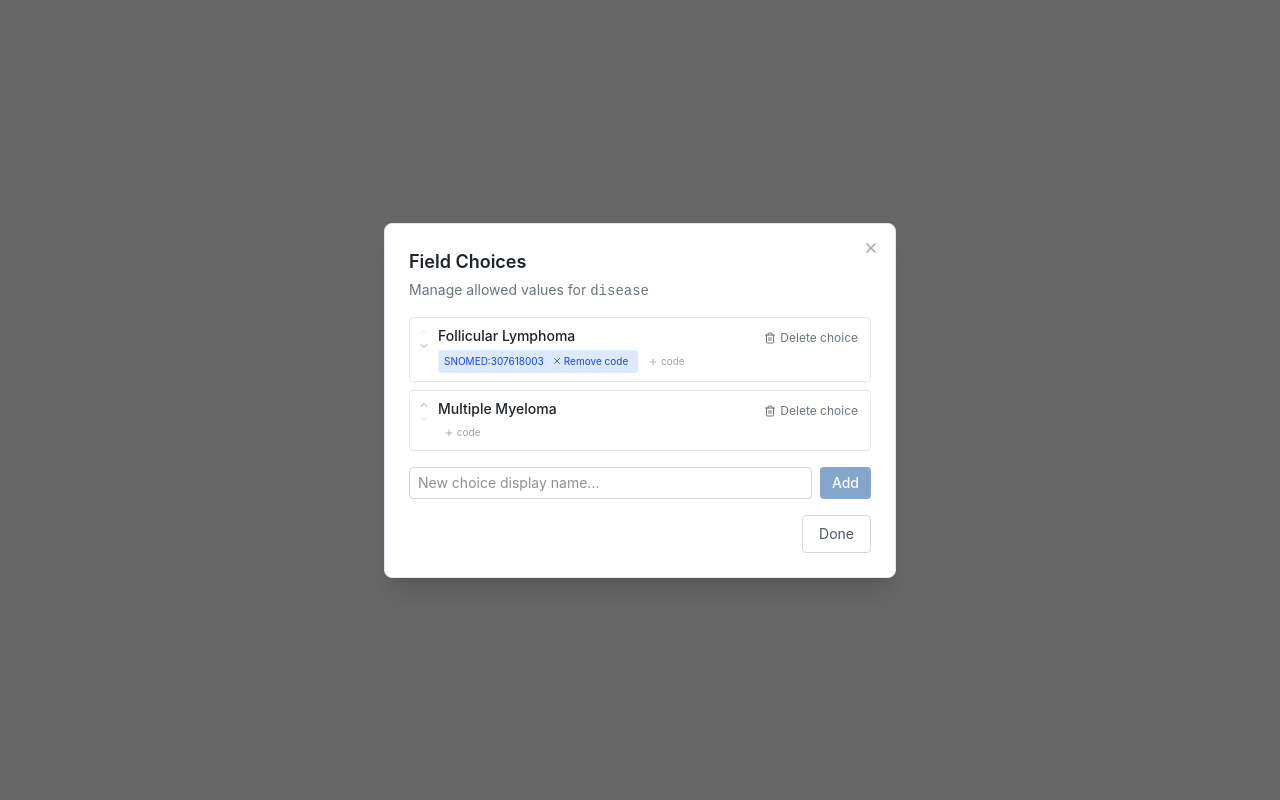
Test: FieldChoiceEditor › prevents duplicate code removals while the request is pending
Click the button with aria-label "Remove code SNOMED:307618003 from Follicular Lymphoma". click: click(590, 361)
box: [548,352,632,370]
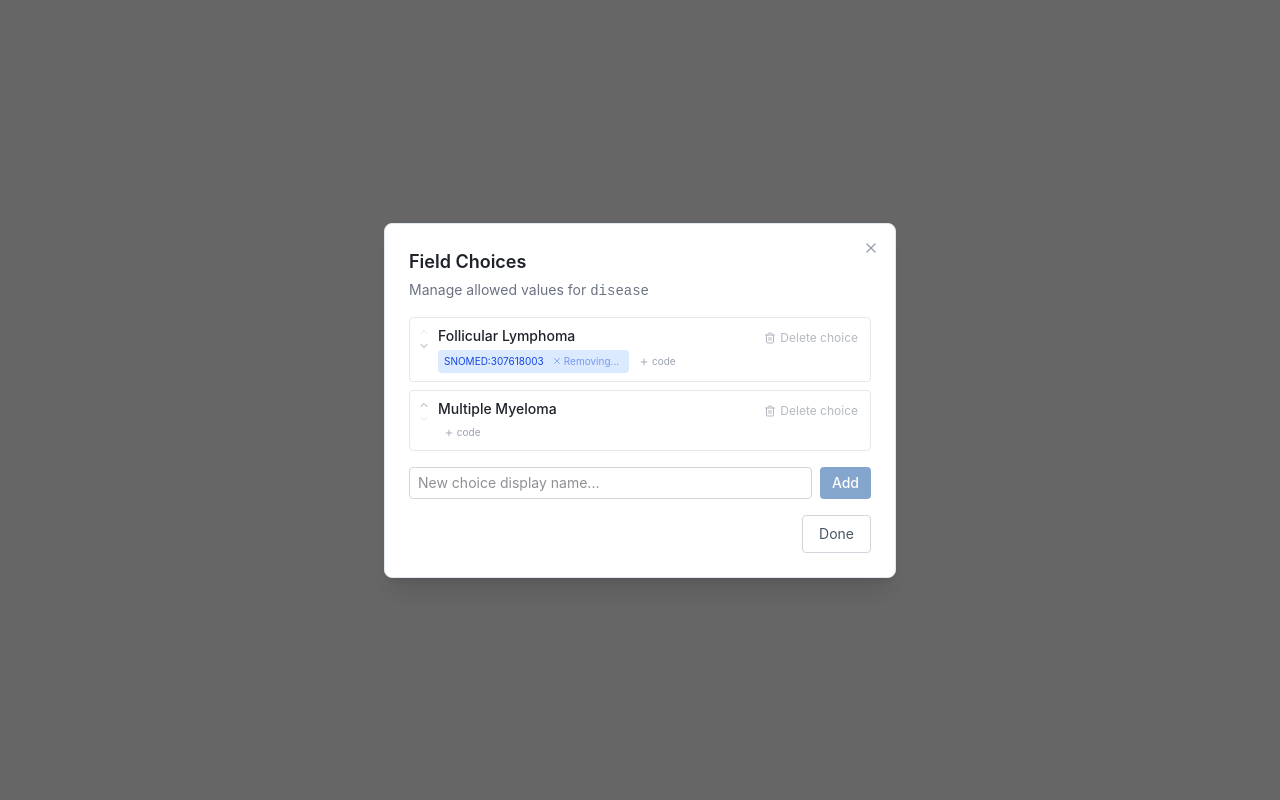
Check: the button with aria-label "Remove code SNOMED:307618003 from Follicular Lymphoma" is disabled
Click the button with aria-label "Remove code SNOMED:307618003 from Follicular Lymphoma". click: click(586, 361)
box: [548,352,623,370]
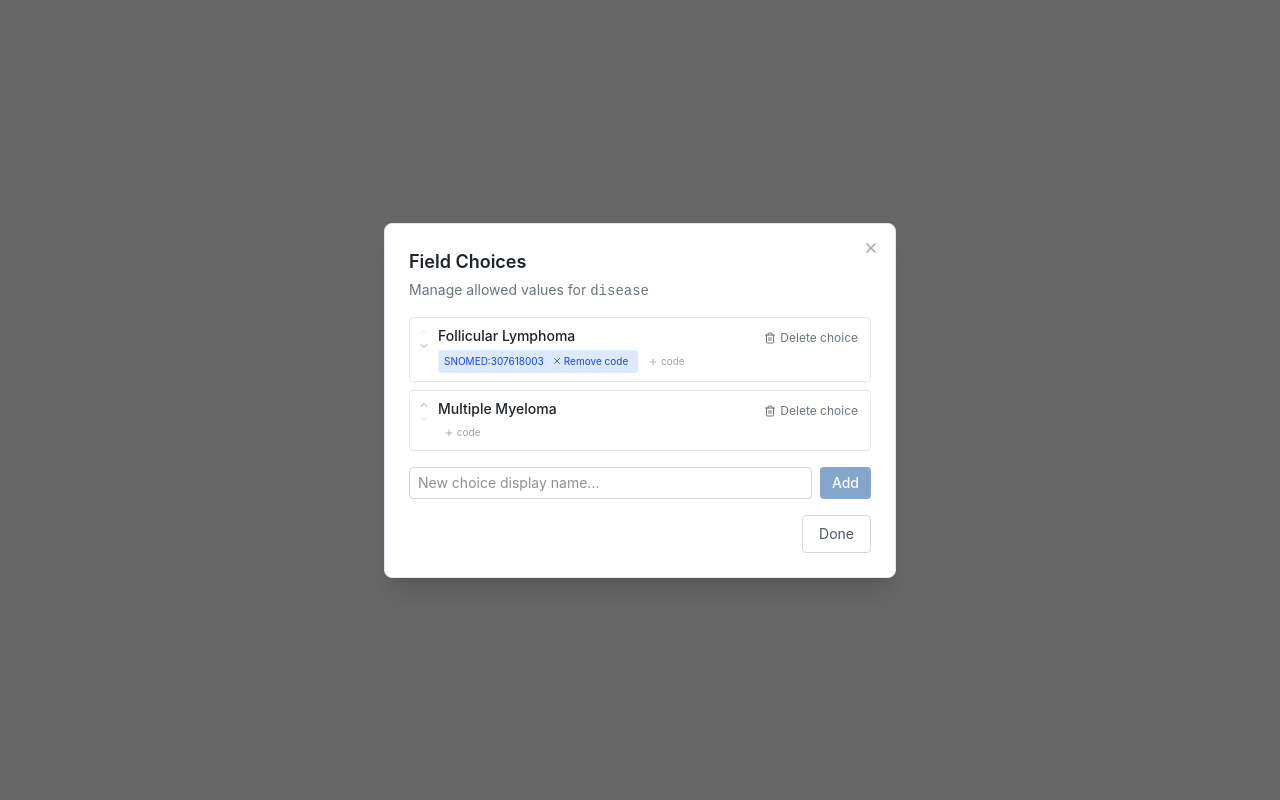
Check: the button with aria-label "Remove code SNOMED:307618003 from Follicular Lymphoma" is enabled, box [548,352,632,370]
